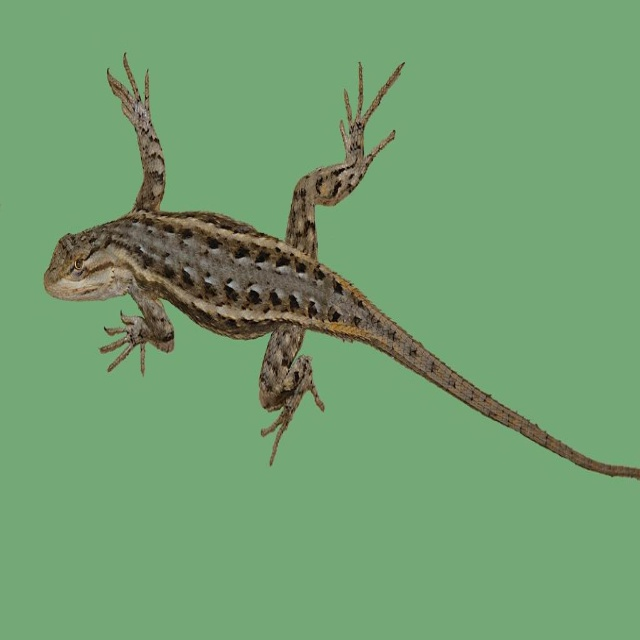Lizard: (48, 63, 603, 508)
